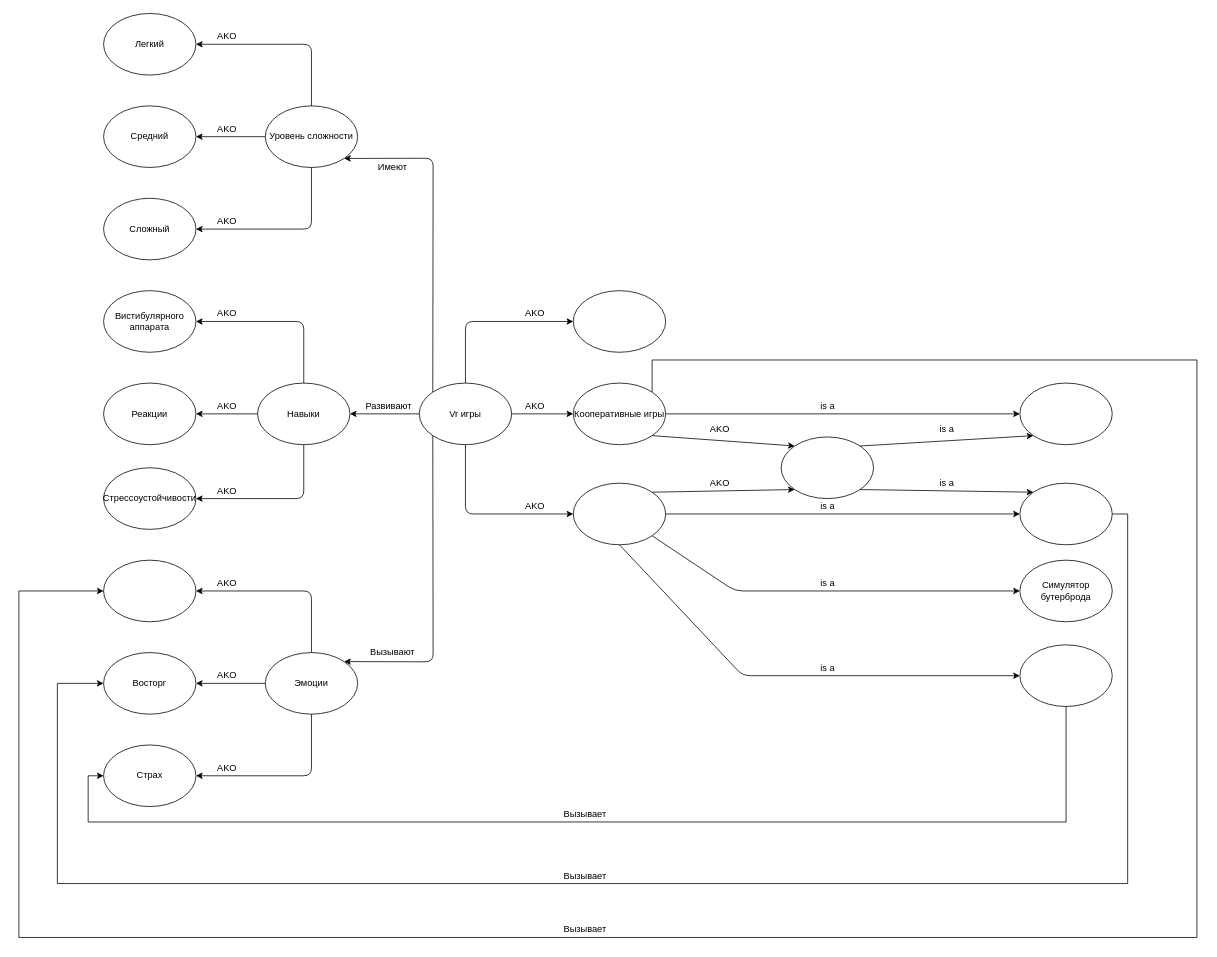
The diagram is 1217 pixels wide and 957 high, and some of its shapes have lost their labels. The shapes that lost their labels are listed below. From the top down, each one's box as (x1, y1, x2, y2) in pixels, then its label:
(572, 290, 666, 352): Демонстрационные игры
(1019, 382, 1112, 445): Стрелялка №1
(780, 436, 874, 499): Игра в которых можно пострелять
(572, 482, 666, 545): Симуляторы
(1019, 482, 1112, 545): Симулятор пилота самолета
(103, 559, 196, 622): Азарт
(1019, 644, 1112, 706): Симулятор Сталина
